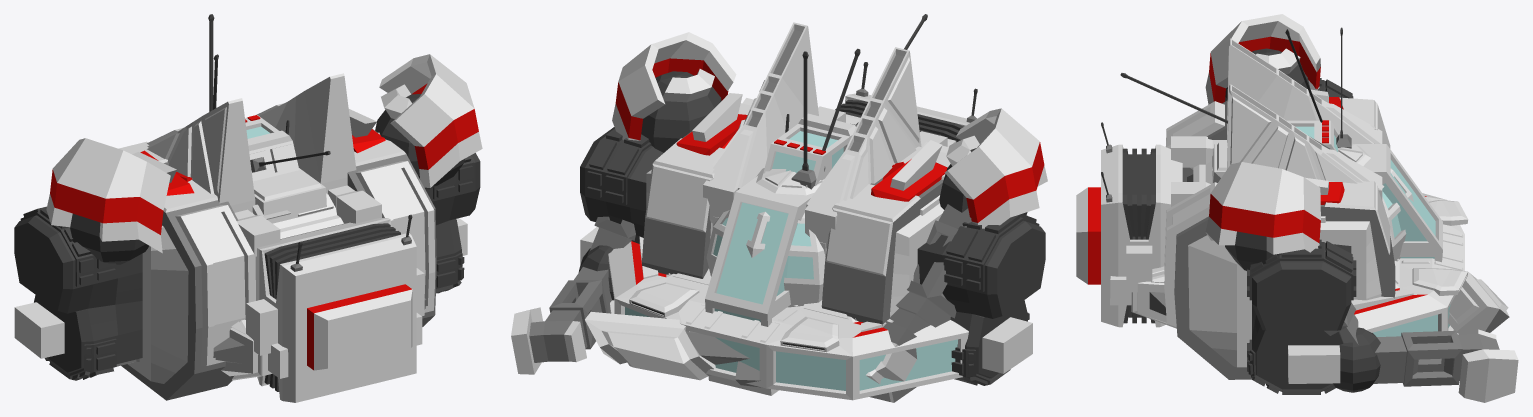
The model's file is Chassis.fbx.
3 views of the same model, side by side, from view 1: azimuth 30°, elevation 25°; view 2: azimuth 150°, elevation 25°; view 3: azimuth 270°, elevation 25° (orthographic). The views are drawn at different scales.
Parts seen in each view (by area): view 1: DOZER, PROMETHEUS, CLERIC, MECHA, HAMMERHEAD; view 2: CLERIC, DOZER, MECHA, HAMMERHEAD, PROMETHEUS; view 3: DOZER, CLERIC, PROMETHEUS, MECHA, HAMMERHEAD.
Boxes of the visible parts, x1,y1,x2,y2 form: DOZER: (14, 120, 480, 400); PROMETHEUS: (208, 14, 424, 402); CLERIC: (46, 54, 482, 264); MECHA: (132, 73, 385, 256); HAMMERHEAD: (14, 218, 467, 380); CLERIC: (511, 32, 1047, 387); DOZER: (580, 98, 1045, 402); MECHA: (676, 14, 947, 248); HAMMERHEAD: (580, 227, 1032, 400); PROMETHEUS: (705, 51, 977, 395); DOZER: (1164, 78, 1395, 394); CLERIC: (1205, 14, 1518, 402); PROMETHEUS: (1076, 27, 1442, 327); MECHA: (1120, 38, 1382, 222); HAMMERHEAD: (1110, 193, 1468, 383).
Bounding box in the file's own units: 659 × 641 × 467.
